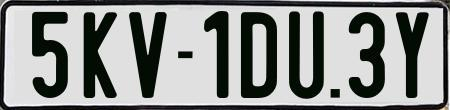1: (203, 10, 230, 97)
3: (349, 11, 389, 99)
5: (32, 10, 68, 96)
D: (241, 11, 277, 97)
K: (81, 12, 115, 103)
U: (289, 9, 324, 102)
V: (128, 10, 169, 97)
Y: (395, 12, 431, 103)
